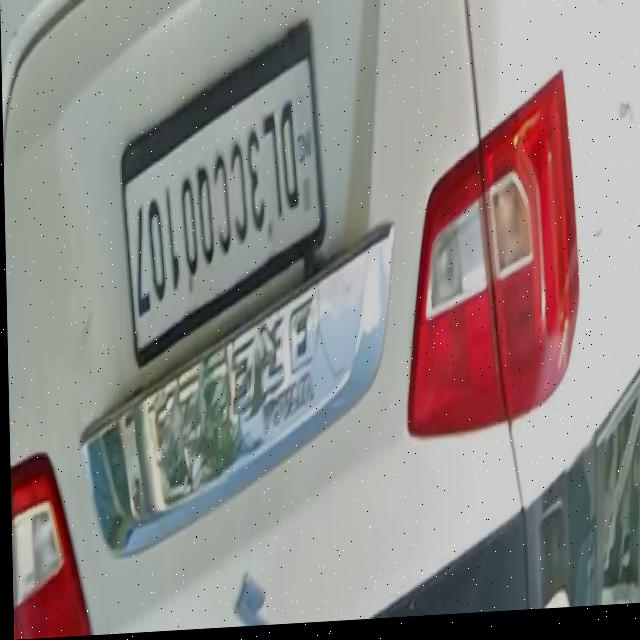plate: (118, 27, 327, 371)
